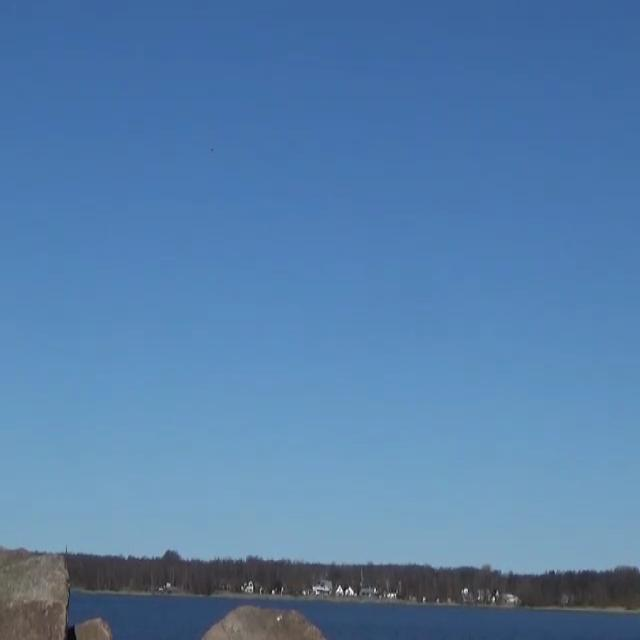AirPlane: (197, 128, 228, 169)
